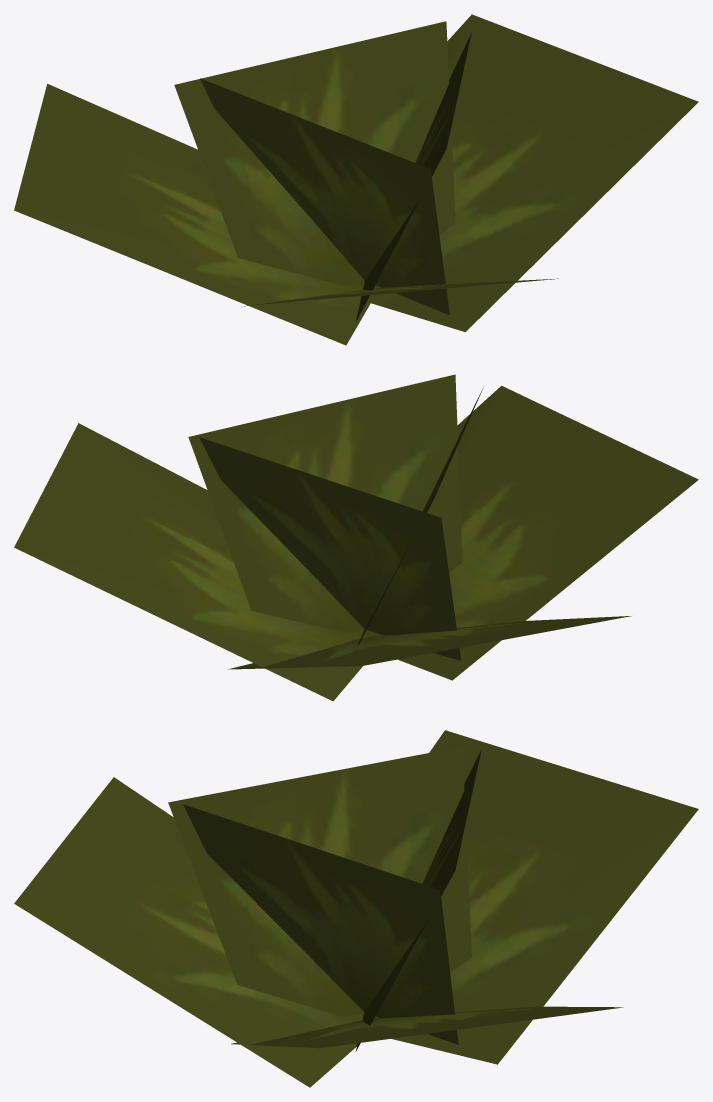
Rendered from grass_01.fbx.
3 views of the same model, one above another, from view 1: azimuth 30°, elevation 25°; view 2: azimuth 150°, elevation 25°; view 3: azimuth 270°, elevation 25° (orthographic). The views are drawn at different scales.
Parts seen in each view (by area): view 1: obj0.036; view 2: obj0.036; view 3: obj0.036.
Boxes of the visible parts, x1,y1,x2,y2 form: obj0.036: (14, 14, 698, 345); obj0.036: (14, 374, 698, 701); obj0.036: (14, 730, 698, 1087).
Bounding box in the file's own units: 2.46 × 0.7909 × 2.24.
